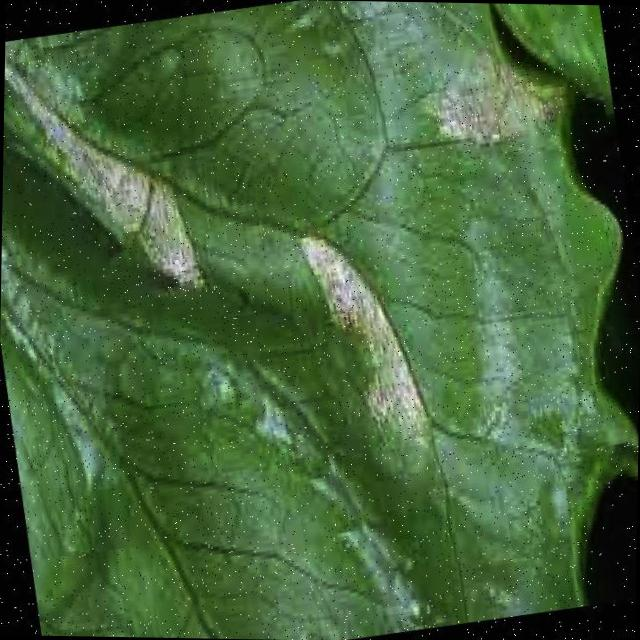Powdery_Mildew: (0, 0, 570, 607)
